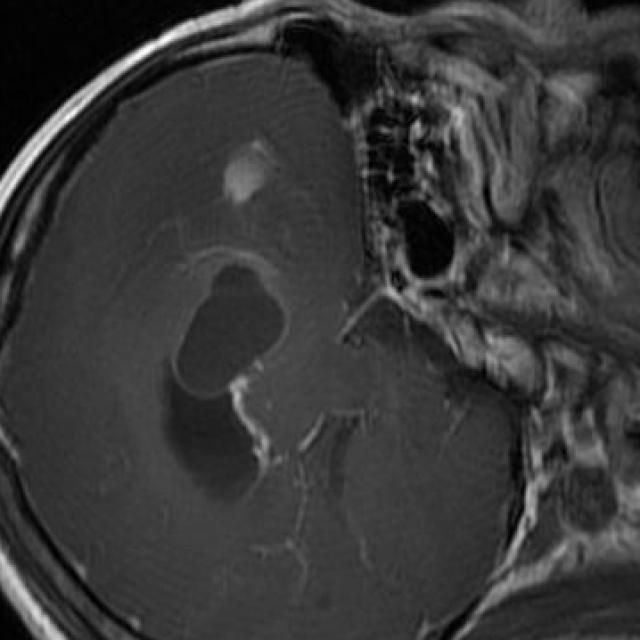glioma: (171, 258, 289, 399)
